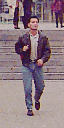person: (23, 17, 47, 111)
